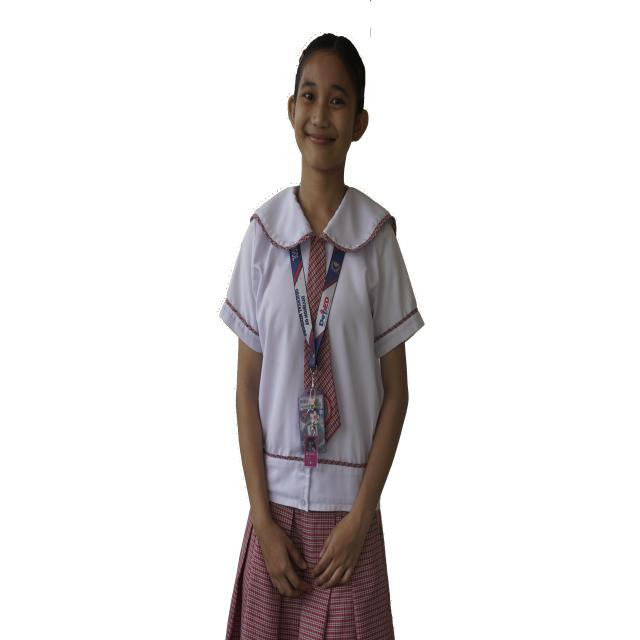id lace: (289, 244, 345, 374)
pologirl: (220, 187, 424, 511), (314, 328, 340, 440), (305, 236, 326, 327), (303, 368, 312, 388), (304, 342, 310, 366)
skirt: (226, 510, 394, 640), (270, 502, 348, 564)
